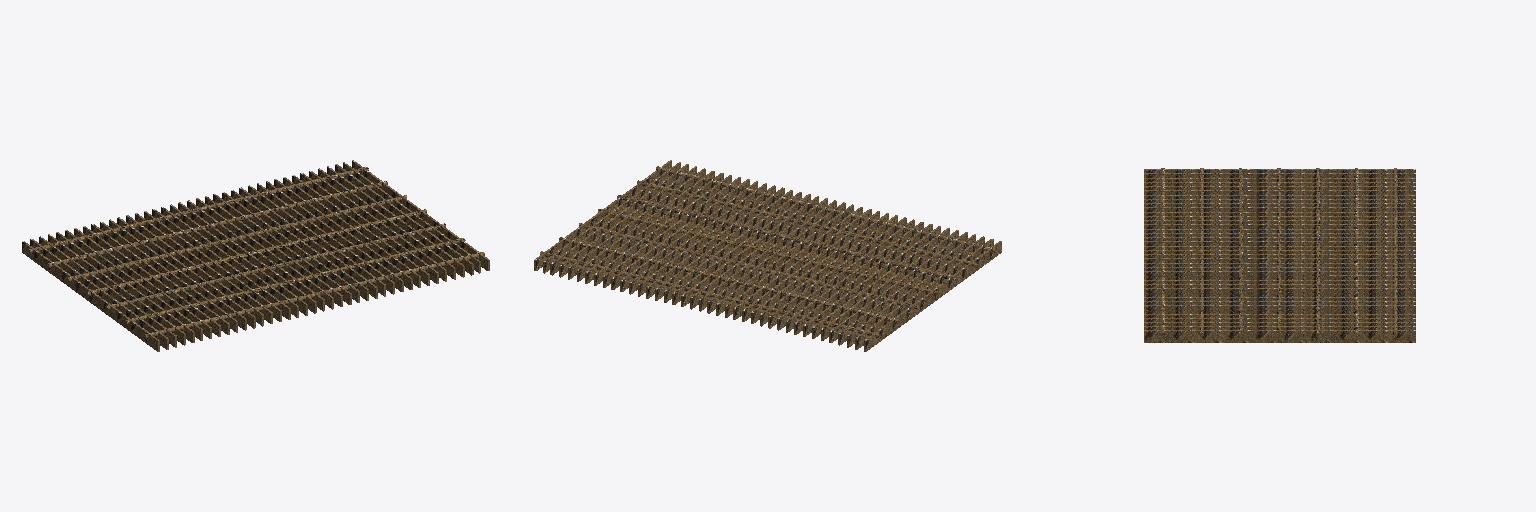
3 views of the same model, side by side, from view 1: azimuth 30°, elevation 25°; view 2: azimuth 150°, elevation 25°; view 3: azimuth 270°, elevation 25° (orthographic).
Visible parts, largest first — view 1: Componente_5_001, Componente_1_016, Componente_1_003, Componente_1_011, Componente_1_035, Componente_1_024, Componente_1_071, Componente_1_057, Componente_1_005, Componente_1_019, Componente_1_001, Componente_1_072 (+28 smaller); view 2: Componente_5_001, Componente_1_016, Componente_1_003, Componente_1_010, Componente_1_024, Componente_1_035, Componente_1_039, Componente_1_077, Componente_1_071, Componente_1_005, Componente_1_019, Componente_1_029 (+28 smaller); view 3: Componente_5_001, Componente_1_002, Componente_1_051, Componente_1_061, Componente_1_064, Componente_1_066, Componente_1_006, Componente_1_004, Componente_1_032, Componente_1_039, Componente_1_029, Componente_1_003 (+26 smaller).
Boxes of the visible parts, box(x1,y1,x2,y2) form: Componente_5_001: box(28, 167, 484, 338); Componente_1_016: box(22, 241, 159, 351); Componente_1_003: box(343, 162, 480, 273); Componente_1_011: box(56, 232, 194, 342); Componente_1_035: box(213, 194, 351, 304); Componente_1_024: box(335, 164, 473, 274); Componente_1_071: box(91, 224, 229, 334); Componente_1_057: box(178, 202, 316, 313); Componente_1_005: box(30, 239, 168, 349); Componente_1_019: box(327, 167, 464, 277); Componente_1_001: box(352, 161, 489, 270); Componente_1_072: box(117, 218, 255, 328); Componente_5_001: box(540, 166, 996, 337); Componente_1_016: box(864, 241, 1001, 351); Componente_1_003: box(543, 162, 680, 273); Componente_1_010: box(847, 236, 984, 347); Componente_1_024: box(550, 164, 688, 274); Componente_1_035: box(672, 194, 810, 304); Componente_1_039: box(655, 190, 792, 300); Componente_1_077: box(777, 219, 914, 330); Componente_1_071: box(794, 224, 932, 334); Componente_1_005: box(855, 239, 993, 349); Componente_1_019: box(559, 167, 696, 277); Componente_1_029: box(585, 173, 723, 283); Componente_5_001: box(1161, 168, 1397, 336); Componente_1_002: box(1144, 330, 1415, 341); Componente_1_051: box(1144, 258, 1415, 262); Componente_1_061: box(1144, 241, 1415, 245); Componente_1_064: box(1144, 207, 1415, 211); Componente_1_066: box(1144, 224, 1415, 228); Componente_1_006: box(1144, 190, 1415, 194); Componente_1_004: box(1144, 173, 1415, 177); Componente_1_032: box(1144, 275, 1415, 279); Componente_1_039: box(1144, 271, 1415, 275); Componente_1_029: box(1144, 305, 1415, 309); Componente_1_003: box(1144, 326, 1415, 329).
Size of the model in its own units: 10.1 by 0.3233 by 7.04.
10 materials, 1 textured.